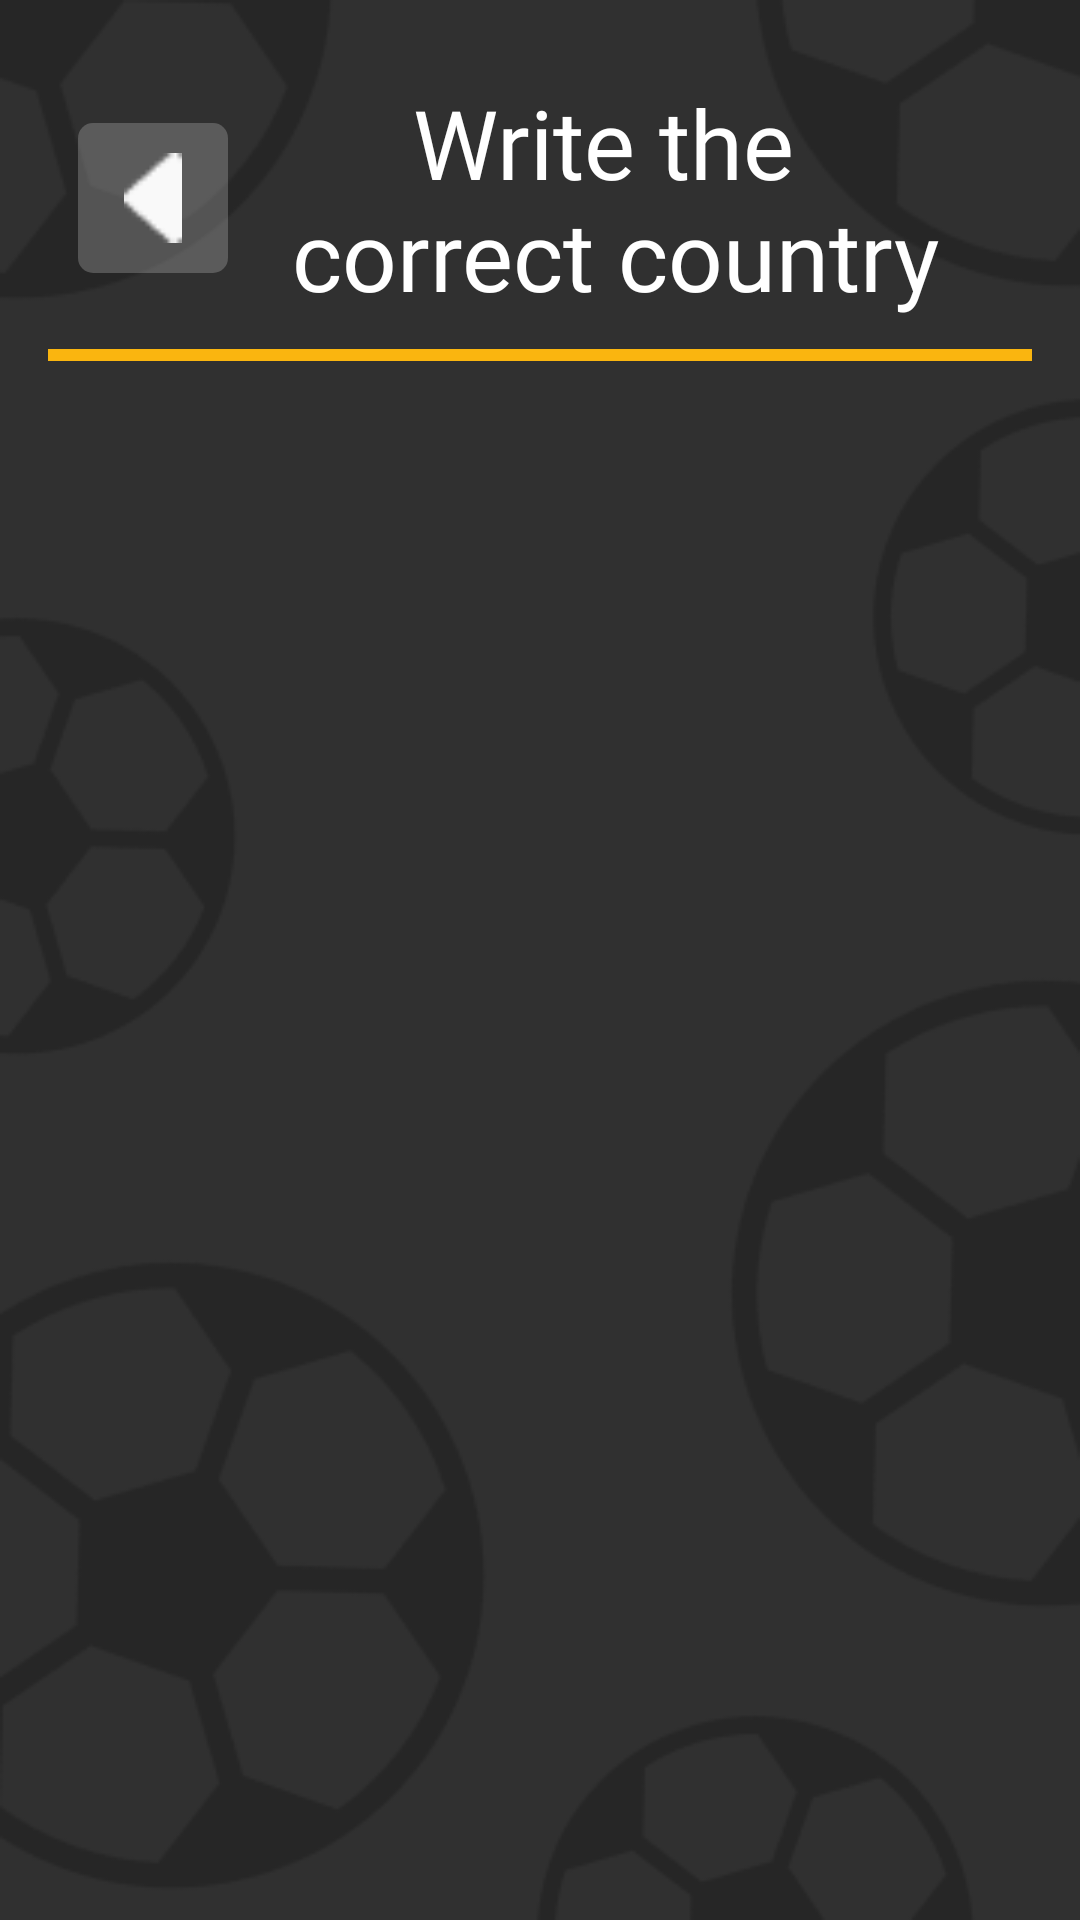

Where to tap for icons on this 1080 x 1920 app screen, as (x=x, y=y):
left: (x=153, y=198)
